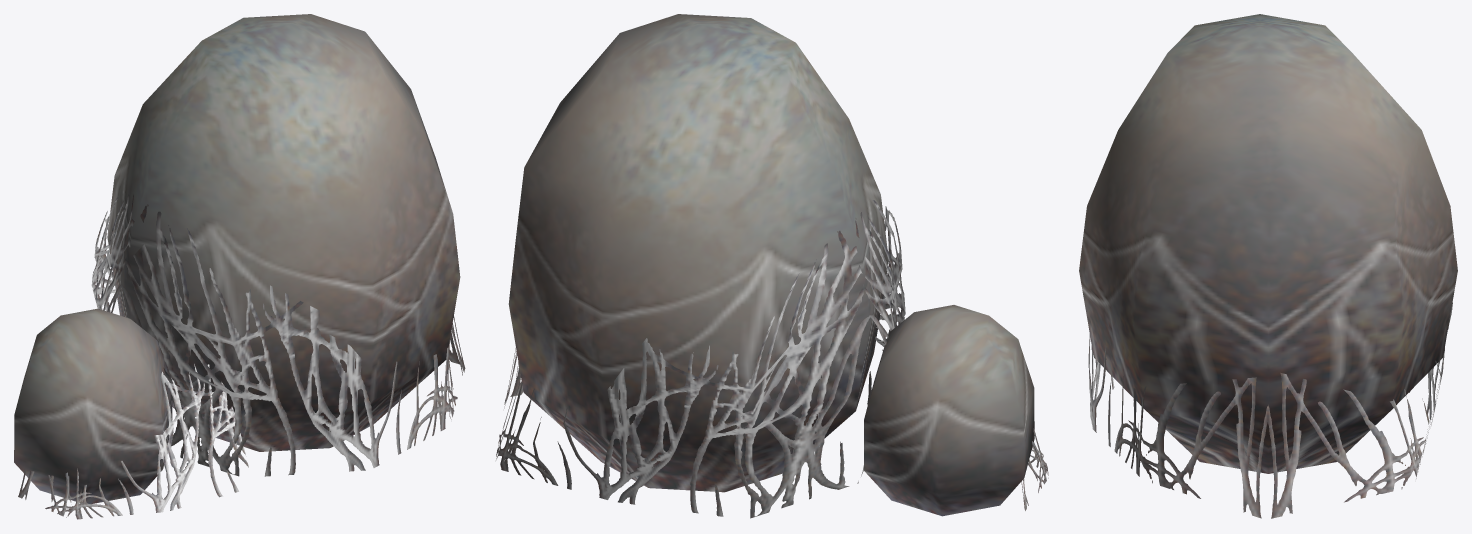
File: daliang_field_d_s03d.fbx
3 renders of one model, left to right at view 1: azimuth 30°, elevation 25°; view 2: azimuth 150°, elevation 25°; view 3: azimuth 270°, elevation 25°, orthographic. The views are drawn at different scales.
Visible parts, largest first — view 1: daliang_field_d_s03d; view 2: daliang_field_d_s03d; view 3: daliang_field_d_s03d.
Boxes of the visible parts, x1,y1,x2,y2 form: daliang_field_d_s03d: (14,14,465,519); daliang_field_d_s03d: (496,14,1048,518); daliang_field_d_s03d: (1079,14,1457,518).
Size of the model in its own units: 206 by 176 by 140.
